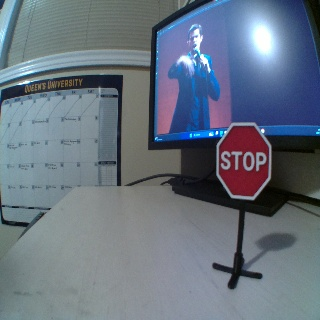sign_stop: (216, 121, 271, 198)
